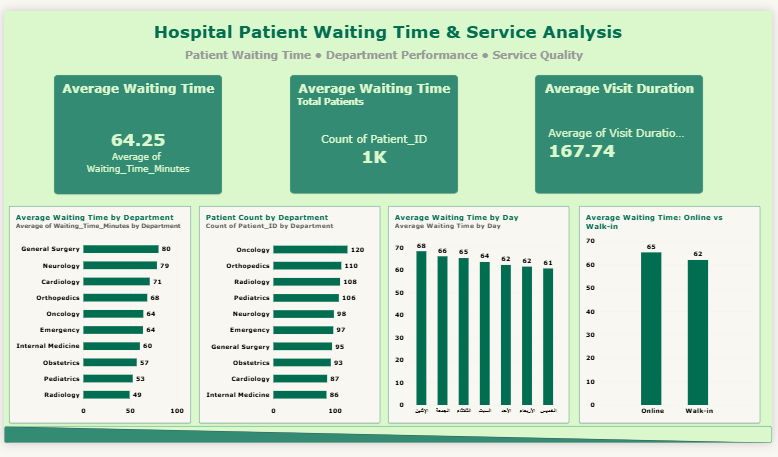

Layout of this report page (visuals, bound fields, positions):
{"tool":"powerbi","page":{"name":"Page ١","canvas":[1920,1080],"ordinal":0},"visuals":[{"type":"card","title":"Average Waiting Time","fields":{"Values":["Avg(Cleaned Data.Waiting_Time_Minutes)"]},"box":[125,160,420,297.5],"z":0},{"type":"cardVisual","title":"Average Waiting Time","fields":{"Data":["CountNonNull(Cleaned Data.Patient_ID)"]},"box":[715,160,420,296],"z":1000},{"type":"cardVisual","title":"Average Visit Duration","fields":{"Data":["Avg(Cleaned Data.Visit Duration (Minutes))"]},"box":[1327.5,160,420,296],"z":2000},{"type":"clusteredBarChart","title":"Average Waiting Time by Department","fields":{"Category":["Cleaned Data.Department"],"Y":["Avg(Cleaned Data.Waiting_Time_Minutes)"]},"box":[12.5,487.5,455,542.5],"z":3000},{"type":"clusteredBarChart","title":"Patient Count by Department","fields":{"Category":["Cleaned Data.Department"],"Y":["CountNonNull(Cleaned Data.Patient_ID)"]},"box":[487.5,487.5,452.5,542.5],"z":4000},{"type":"columnChart","title":"Average Waiting Time by Day","fields":{"Category":["Cleaned Data.Day of Week"],"Y":["Avg(Cleaned Data.Waiting_Time_Minutes)"]},"box":[960,487.5,452.5,542.5],"z":5000},{"type":"columnChart","title":"Average Waiting Time: Online vs Walk-in","fields":{"Category":["Cleaned Data.BookingType"],"Y":["Avg(Cleaned Data.Waiting_Time_Minutes)"]},"box":[1437.5,487.5,452.5,542.5],"z":6000},{"type":"shape","box":[0,1037.5,1920,42.5],"z":7001},{"type":"textbox","box":[290,25,1340,67.5],"z":7002},{"type":"textbox","box":[452.5,92.5,1012.5,52.5],"z":7003}]}

Visuals, with their boxes on the page's 1920x1080 design canvas (x1, y1, x2, y2). These are canvas units, not pixel positions in the 778x457 screenshot, which may show the page scaled, cropped or inside an application window:
"Average Waiting Time" card: pyautogui.locateOnScreen(125, 160, 545, 458)
"Average Waiting Time" cardVisual: pyautogui.locateOnScreen(715, 160, 1135, 456)
"Average Visit Duration" cardVisual: pyautogui.locateOnScreen(1328, 160, 1748, 456)
"Average Waiting Time by Department" clusteredBarChart: pyautogui.locateOnScreen(12, 488, 468, 1030)
"Patient Count by Department" clusteredBarChart: pyautogui.locateOnScreen(488, 488, 940, 1030)
"Average Waiting Time by Day" columnChart: pyautogui.locateOnScreen(960, 488, 1412, 1030)
"Average Waiting Time: Online vs Walk-in" columnChart: pyautogui.locateOnScreen(1438, 488, 1890, 1030)
shape: pyautogui.locateOnScreen(0, 1038, 1920, 1080)
textbox: pyautogui.locateOnScreen(290, 25, 1630, 92)
textbox: pyautogui.locateOnScreen(452, 92, 1465, 145)
